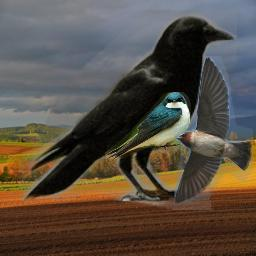Crow: (19, 10, 237, 210)
Swallow: (174, 56, 253, 204), (105, 92, 191, 159)
